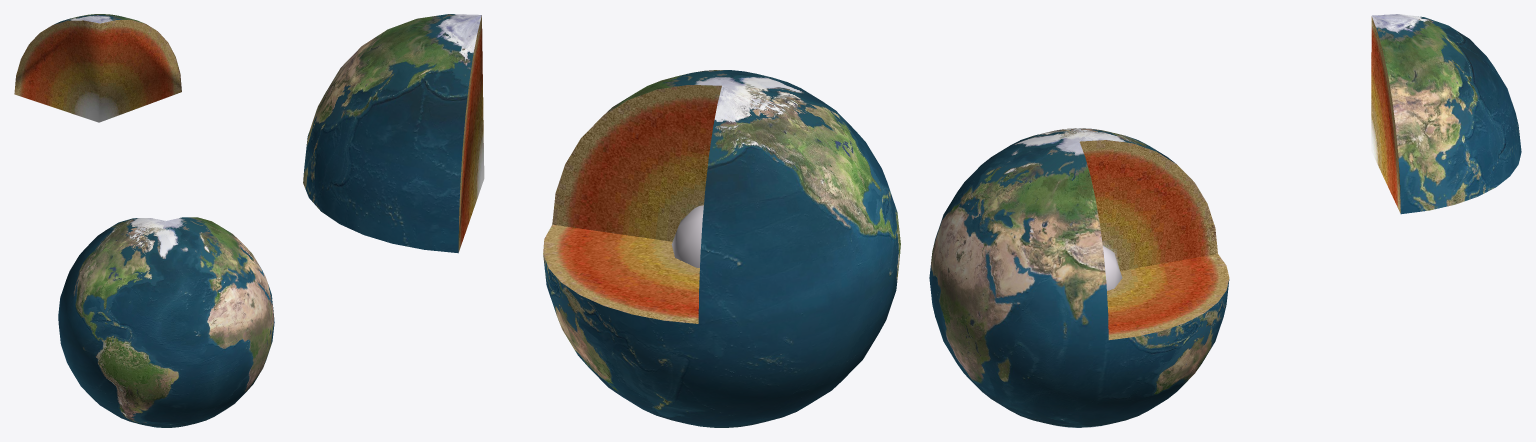
The model's file is earth core.fbx.
The picture shows the model from 3 angles, left to right: view 1: azimuth 30°, elevation 25°; view 2: azimuth 150°, elevation 25°; view 3: azimuth 270°, elevation 25°; orthographic projection. The views are drawn at different scales.
Visible parts, largest first — view 1: Sphere, Sphere.003, Sphere.001; view 2: Sphere, Sphere.001, Sphere.002, Sphere.003, Icosphere; view 3: Sphere, Sphere.001, Sphere.002, Sphere.003, Icosphere.
Boxes of the visible parts, x1,y1,x2,y2 form: Sphere: (58, 217, 274, 427); Sphere.003: (14, 20, 181, 122); Sphere.001: (54, 14, 143, 24); Sphere: (543, 70, 900, 427); Sphere.001: (303, 14, 481, 253); Sphere.002: (543, 85, 721, 323); Sphere.003: (458, 15, 484, 251); Icosphere: (671, 205, 703, 267); Sphere: (929, 128, 1229, 427); Sphere.001: (1372, 14, 1521, 214); Sphere.002: (1079, 140, 1229, 340); Sphere.003: (1371, 16, 1400, 213); Icosphere: (1102, 246, 1122, 290).
Size of the model in its own units: 240 by 313 by 395.
3 materials, 2 textured.
